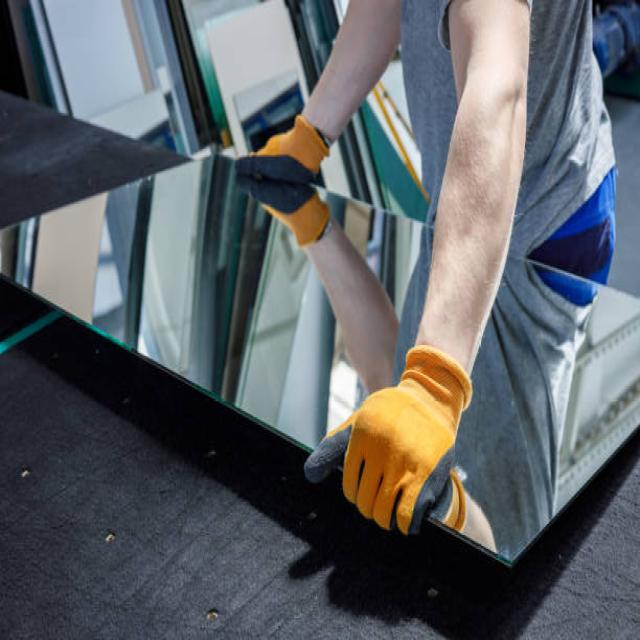Gloves: (300, 337, 480, 546), (225, 107, 334, 199)
person: (230, 1, 619, 543)
